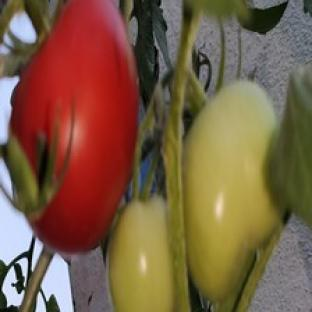Tomato: (183, 81, 279, 302), (109, 197, 174, 311)
